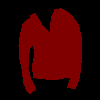felpa: (18, 8, 82, 94)
